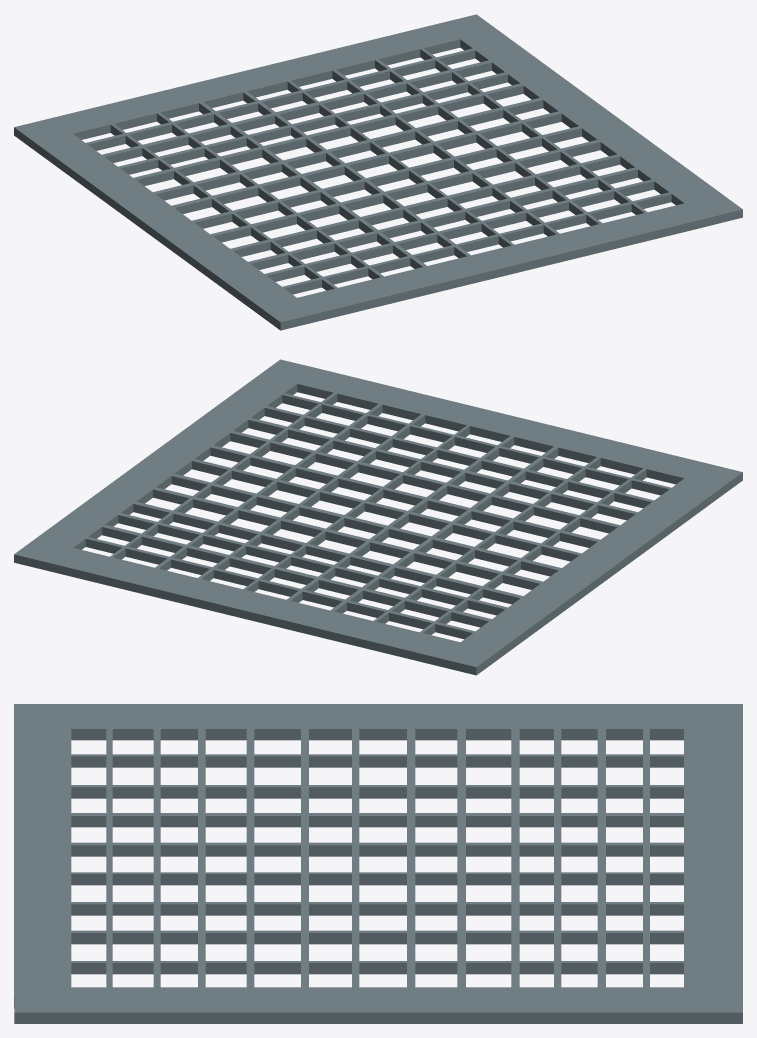
File: Floating_Walkway_Floor_Panel.fbx
3 renders of one model, top to bottom at view 1: azimuth 30°, elevation 25°; view 2: azimuth 150°, elevation 25°; view 3: azimuth 270°, elevation 25°, orthographic. The views are drawn at different scales.
Visible parts, largest first — view 1: pCylinder48; view 2: pCylinder48; view 3: pCylinder48.
Boxes of the visible parts, x1,y1,x2,y2 form: pCylinder48: (14, 14, 742, 330); pCylinder48: (14, 359, 742, 675); pCylinder48: (14, 704, 742, 1023).
Size of the model in its own units: 1.31 by 0.0225 by 1.31.
